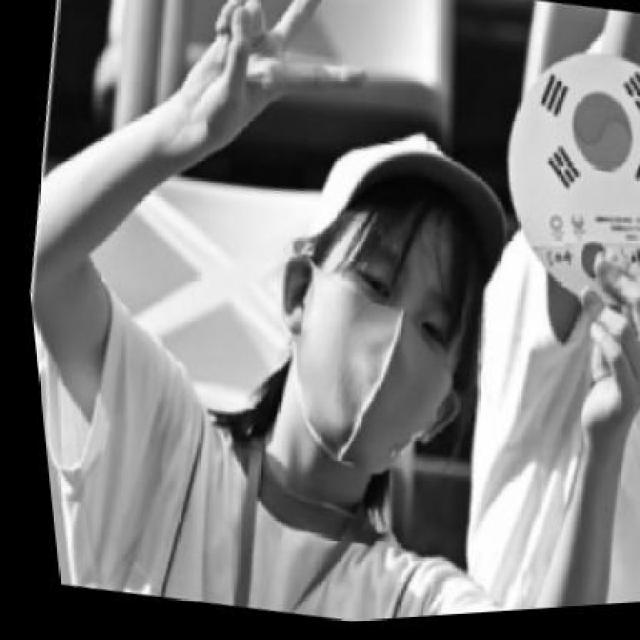hat: (290, 135, 500, 292)
